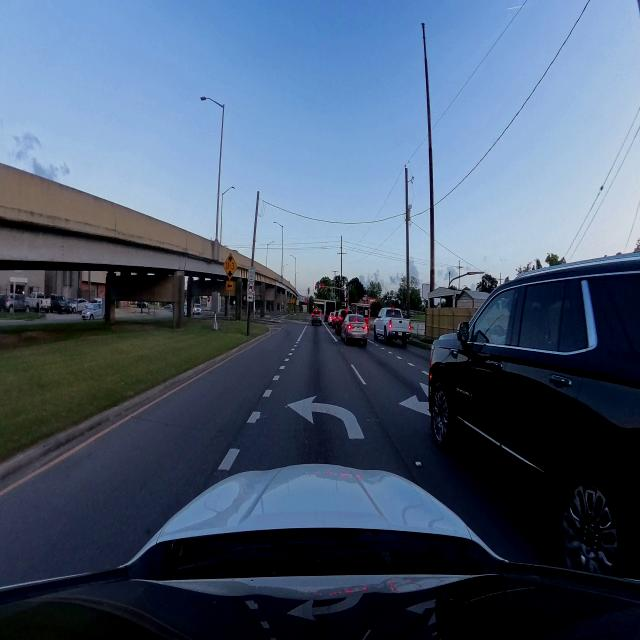car: (0, 464, 639, 639), (430, 255, 639, 574), (373, 308, 411, 345), (341, 314, 367, 345), (334, 310, 349, 335), (311, 309, 321, 325), (327, 312, 335, 326)
